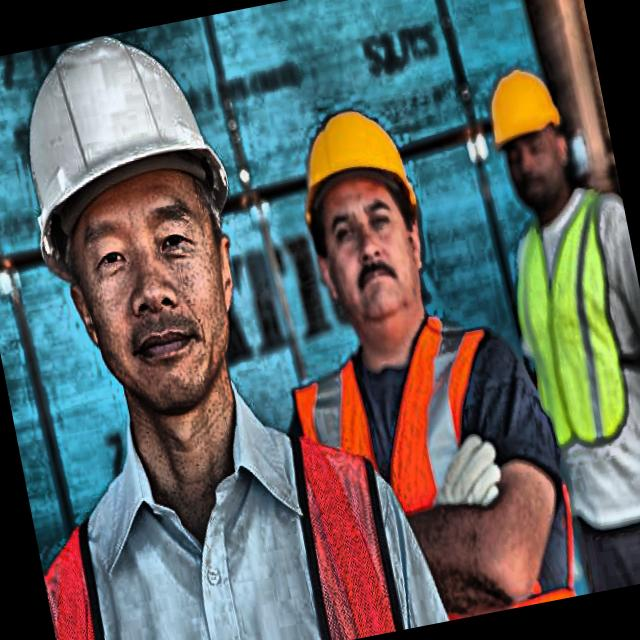helmet: (0, 16, 290, 490), (269, 68, 449, 370), (472, 47, 582, 222)
